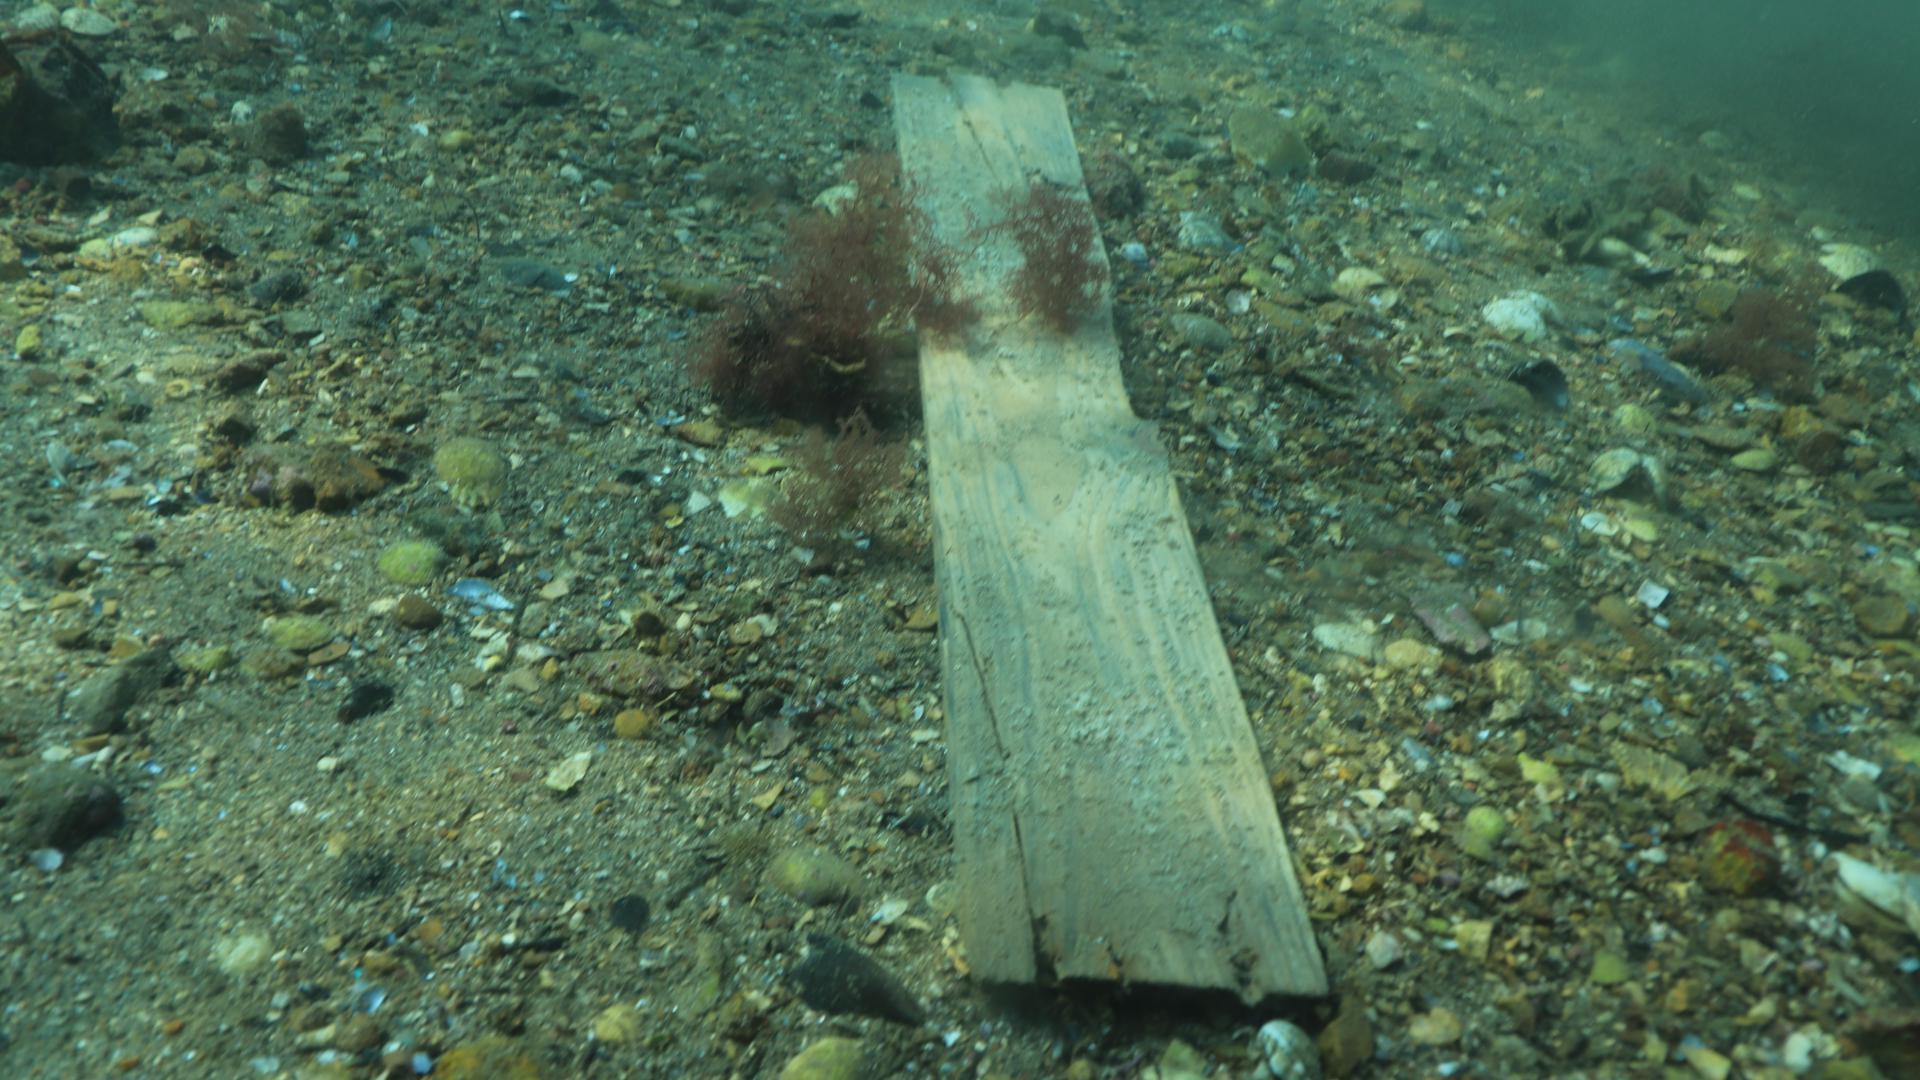wood: (889, 69, 1336, 1018)
